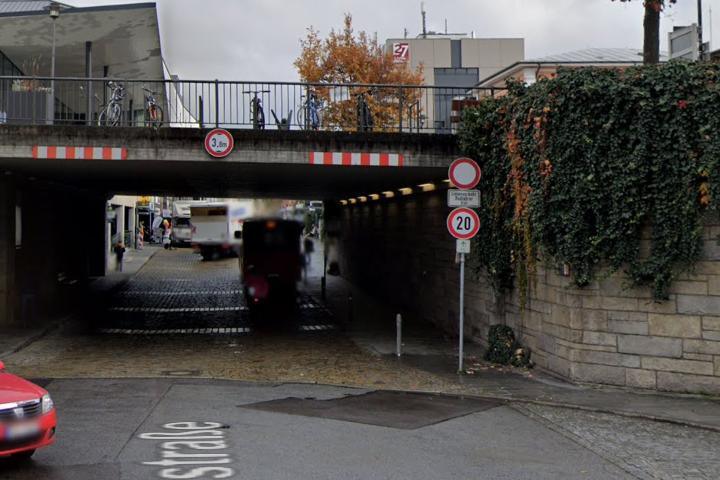traffic_sign: (446, 206, 479, 239), (448, 157, 481, 190), (204, 127, 233, 158)
